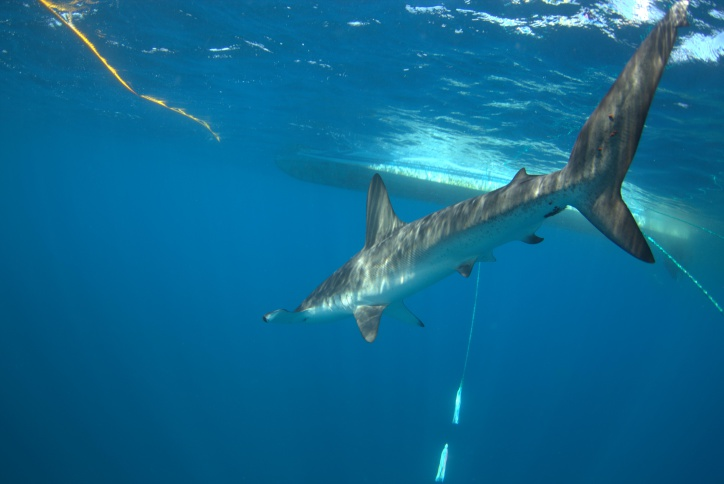Hammer: (255, 6, 724, 335)
